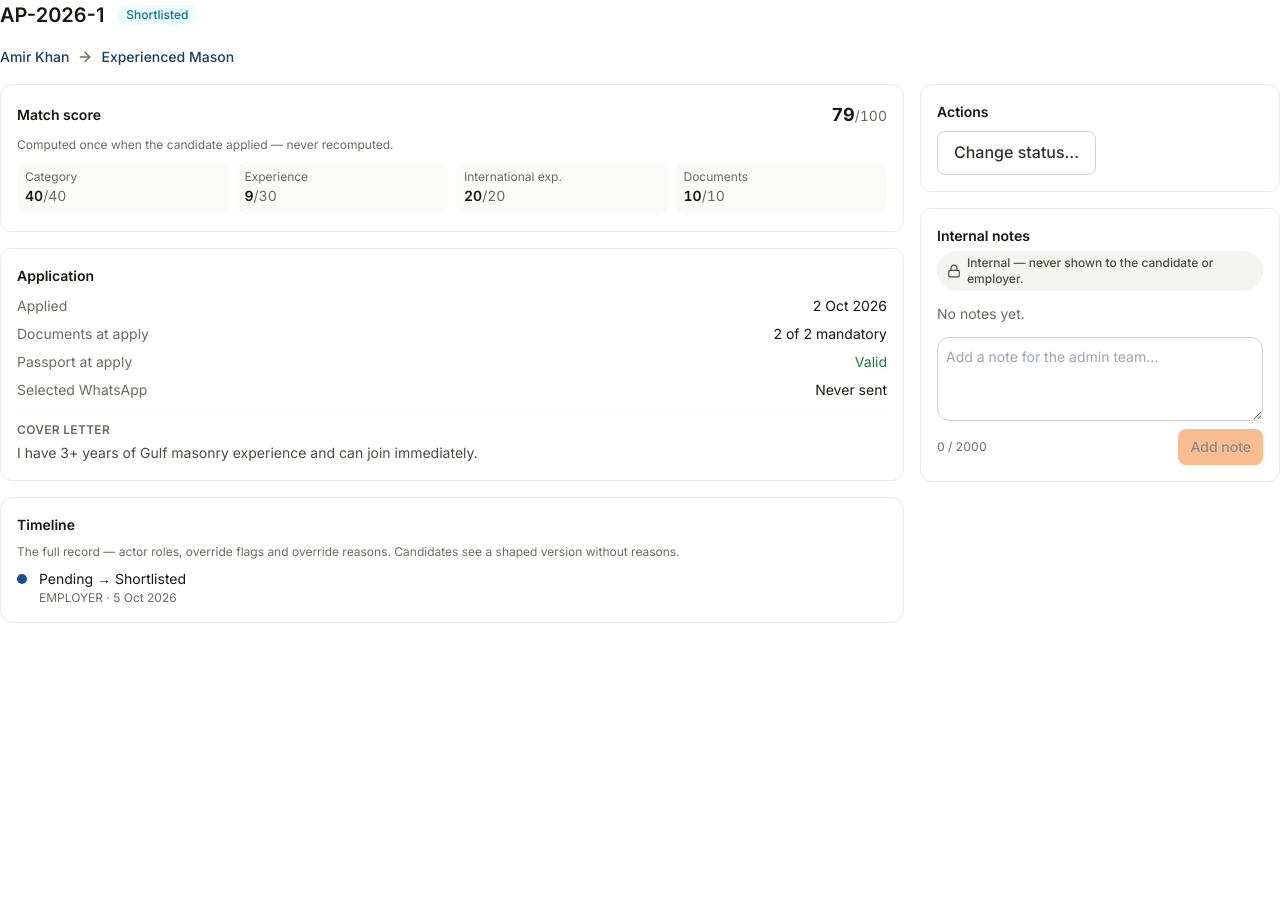
OverrideDialog › confirm PATCHes the override and the refetched timeline shows the new entry
Expected: the heading "AP-2026-1" is shown, [0,0,104,30]
Click the button "Change status…": (1017, 153) [937,131,1096,175]
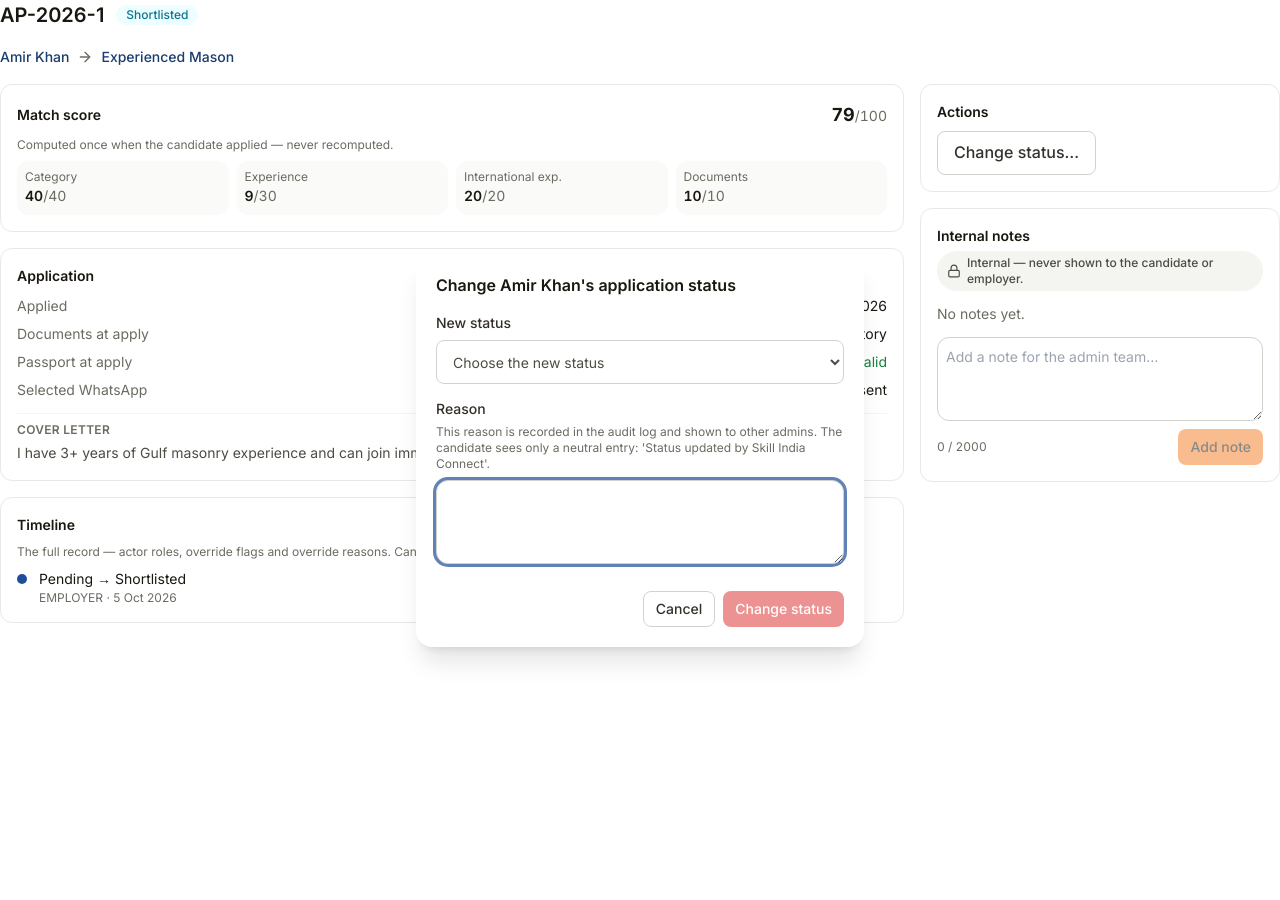
Select "Rejected" in the dropdown labelled "New status": (640, 362) [436,340,844,384]
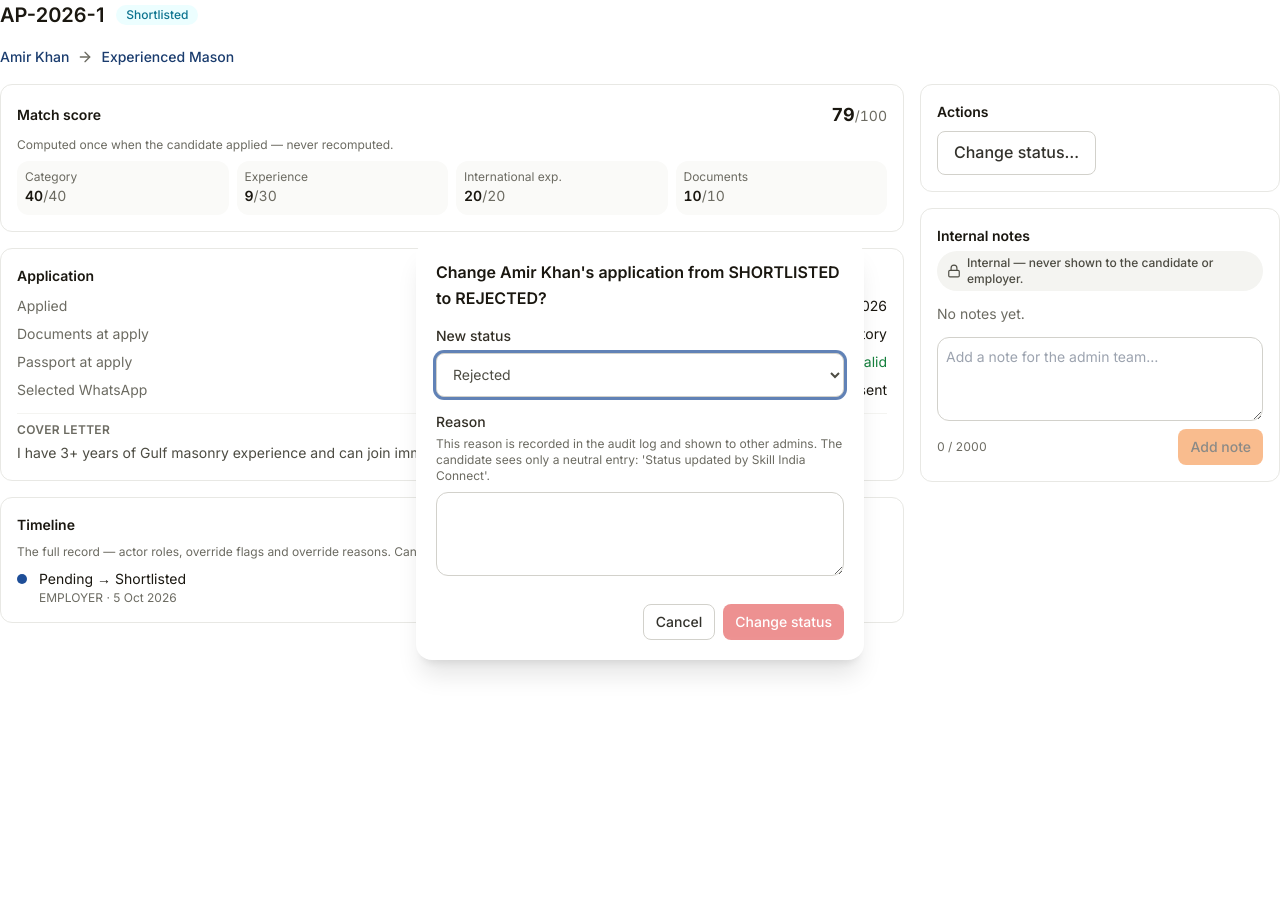
In the text box labelled "Reason": (640, 534) [436,492,844,576], type "Wrong shortlist — correcting."
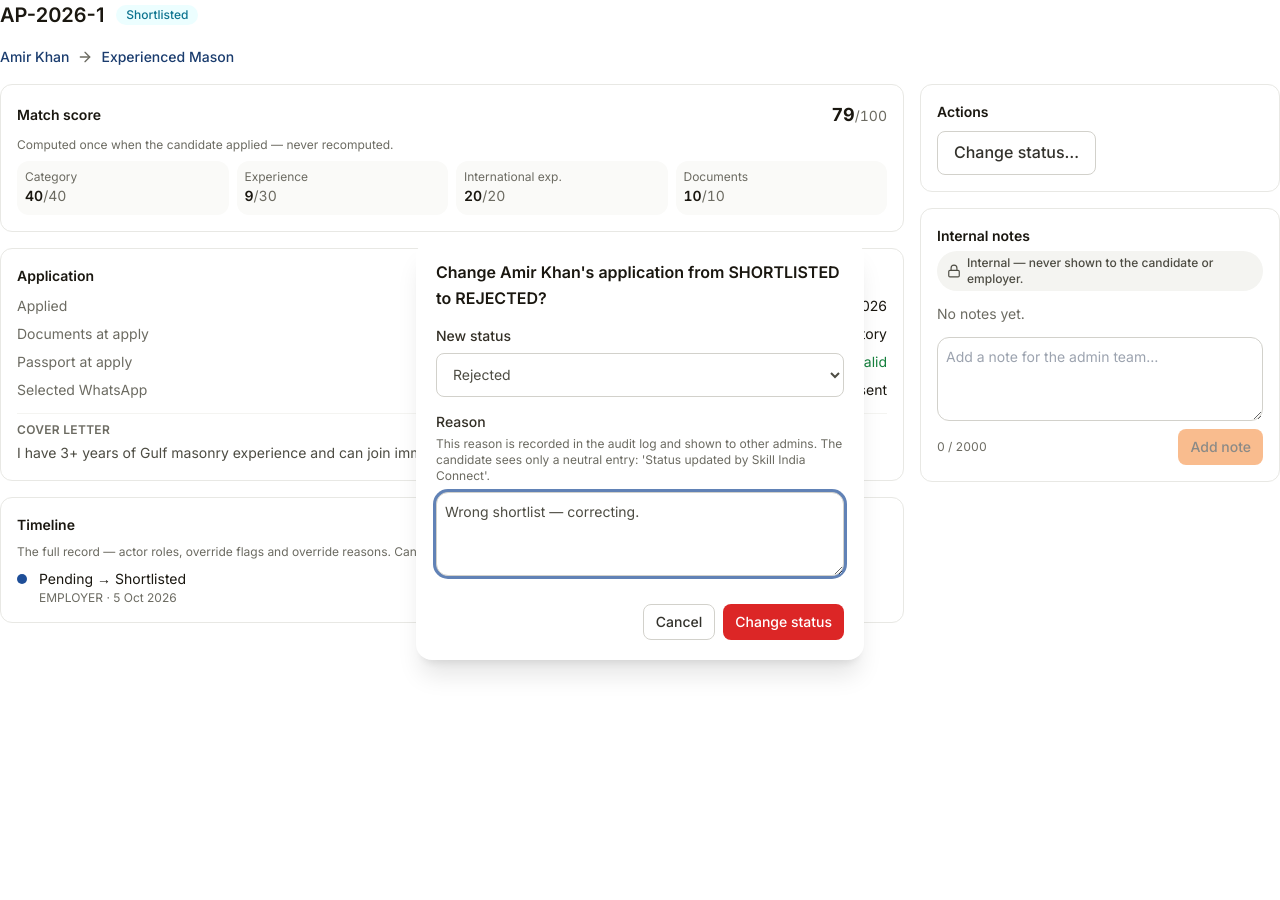
Click the button "Change status": (784, 622) [723,604,844,640]
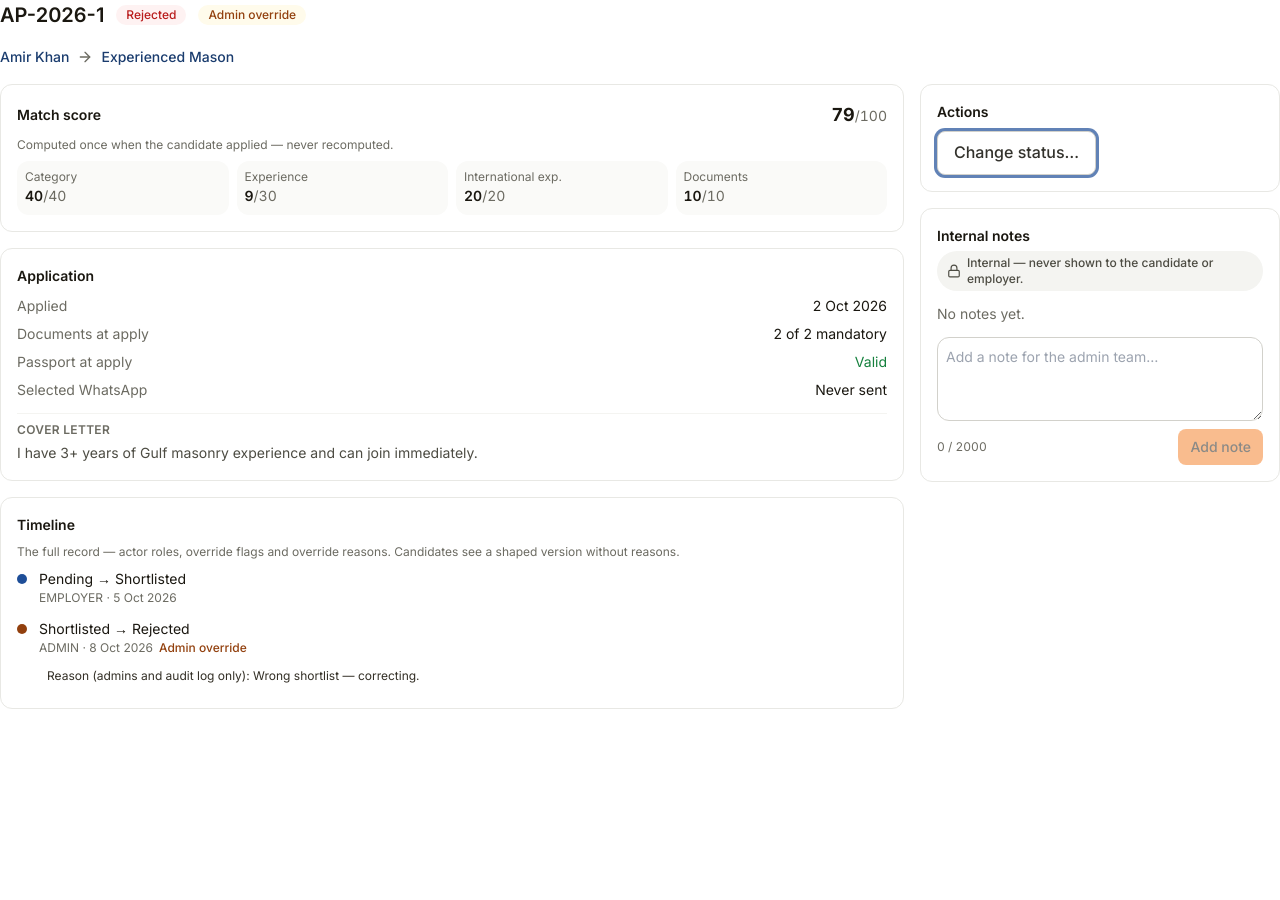
Now the text "Wrong shortlist — correcting." is shown, box [47,668,420,683]
